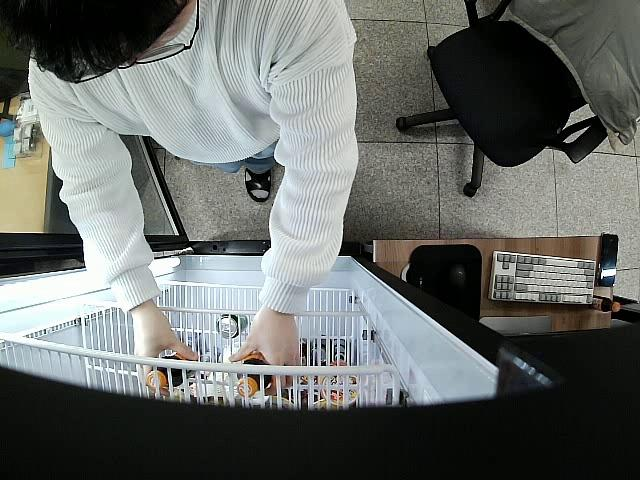00_hand: (229, 311, 302, 396), (134, 312, 200, 396)
17_vita500: (145, 352, 194, 391), (237, 353, 272, 397)
